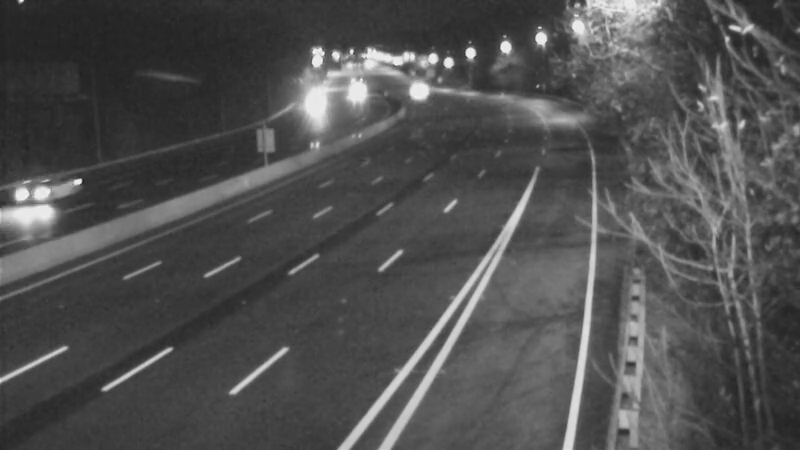vehicle: (14, 155, 94, 235), (394, 65, 444, 115), (286, 80, 336, 130), (330, 70, 380, 120)
